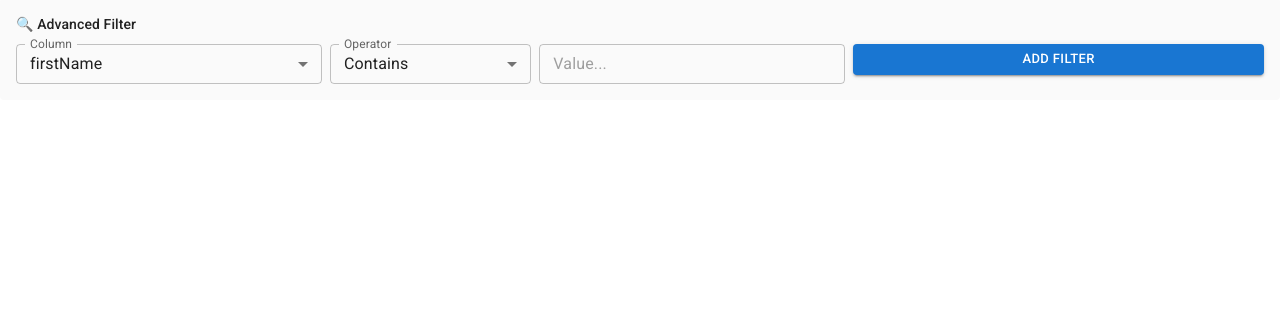
Test: FilterBar - Phase 2: Advanced Filtering with Operators › Operator Selector › changes available operators when column changes
Step 1. Click the dropdown labelled "firstName" → (66, 64), box [30, 54, 102, 74]
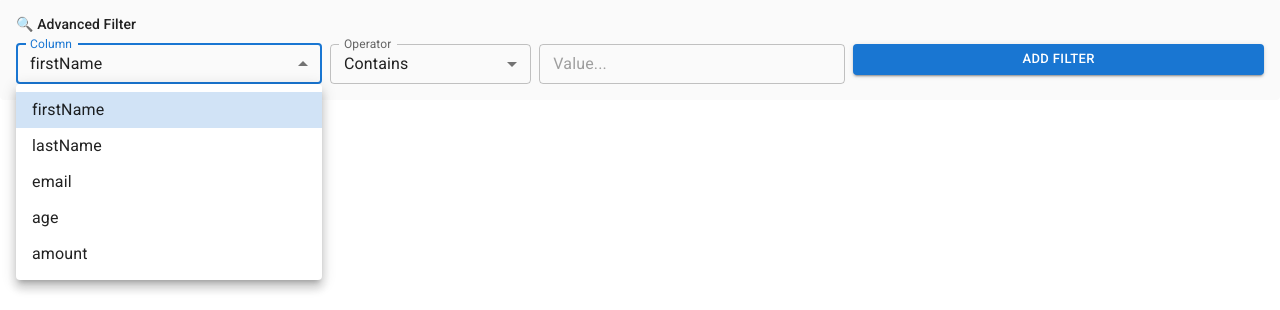
Now the option "firstName" is shown, box [16, 92, 322, 128]
